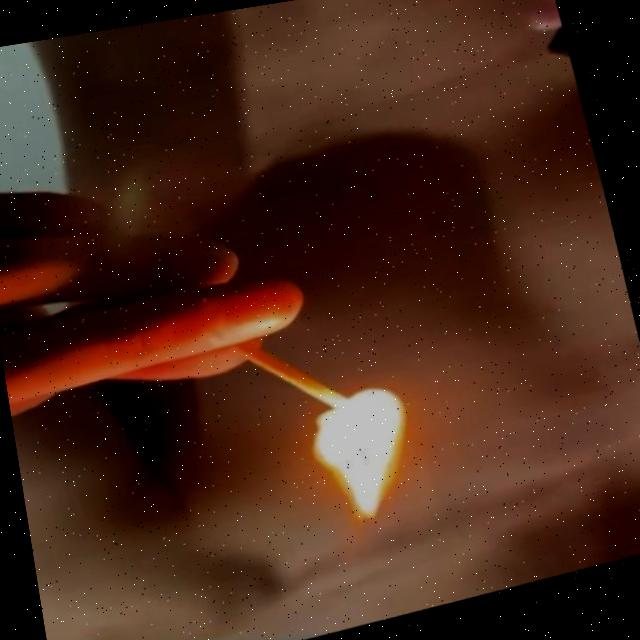fire: (300, 386, 435, 543)
